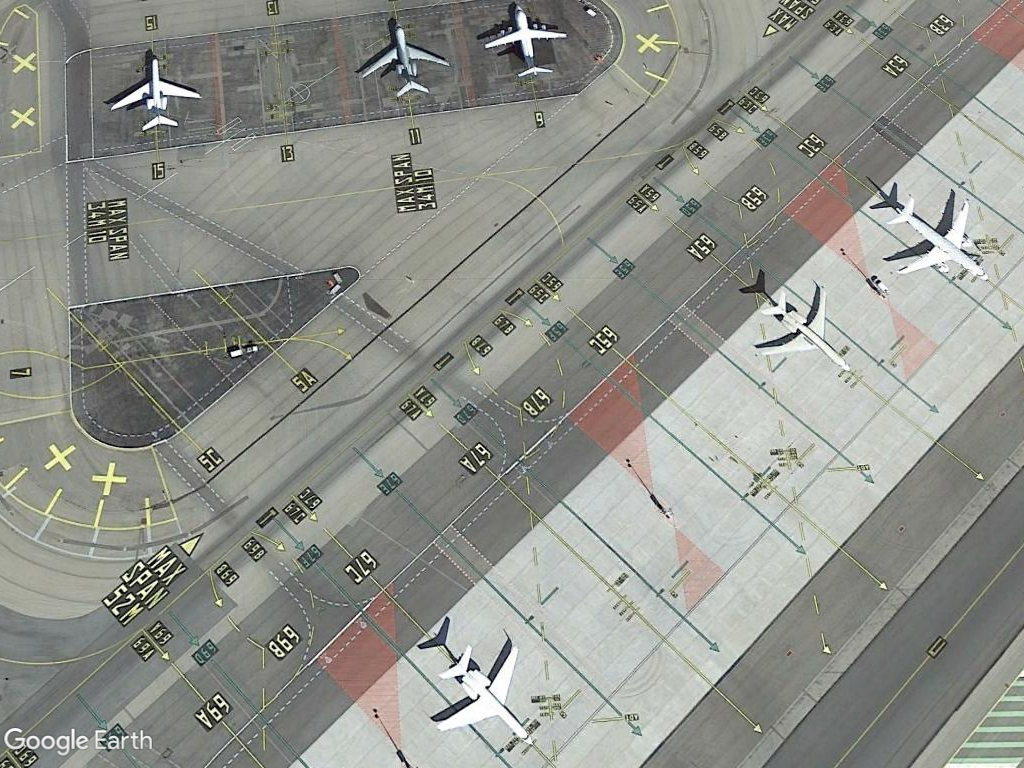airliner: (883, 194, 994, 289)
chartered: (425, 641, 543, 752), (757, 278, 857, 379)
